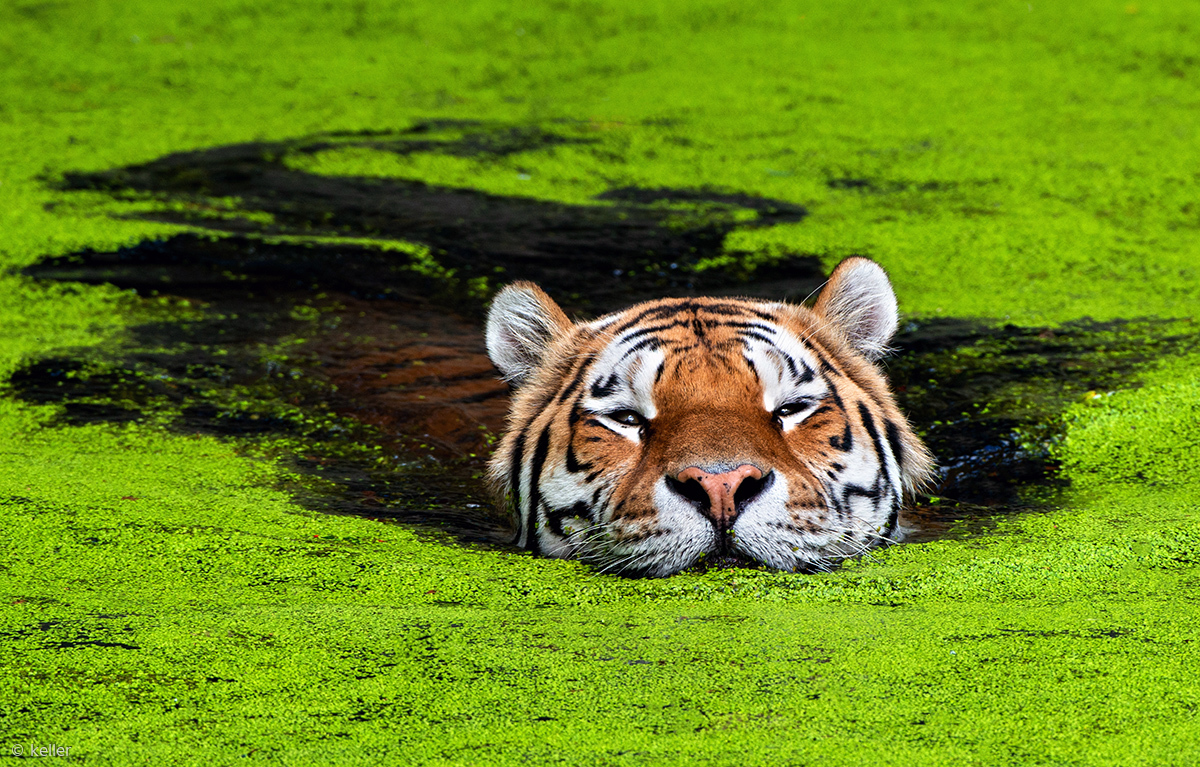tiger: (457, 256, 1000, 589)
